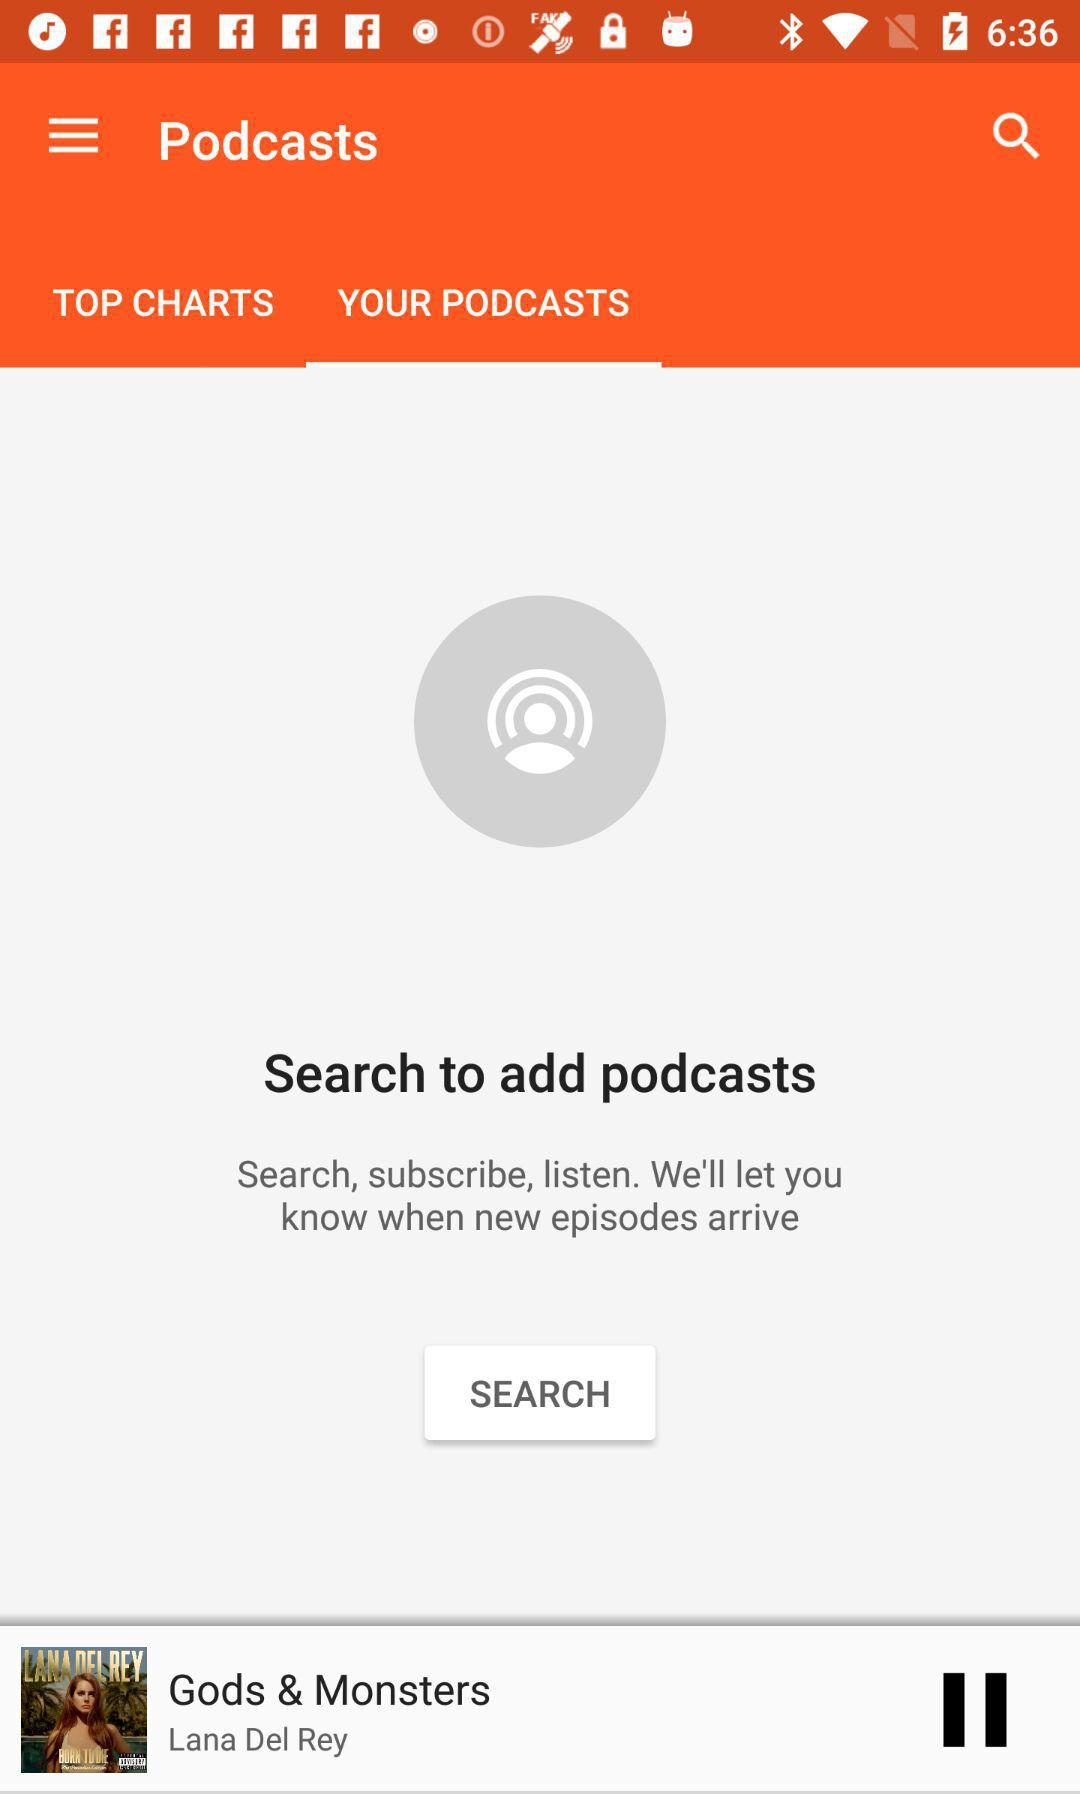Icon: (992, 111, 1042, 161), (47, 117, 101, 156)
Image: (414, 595, 667, 850), (20, 1647, 149, 1773), (942, 1671, 1010, 1749)
Multi_Tab: (3, 211, 1080, 369)
Text: (238, 1158, 843, 1240), (264, 1051, 816, 1105), (169, 1671, 491, 1707), (160, 119, 379, 163), (336, 288, 630, 319), (53, 290, 275, 319), (169, 1725, 350, 1759)
TextButton: (423, 1344, 659, 1443)
Toolbar: (1, 67, 1080, 211)
UpperTaskBar: (1, 1, 1080, 64)
